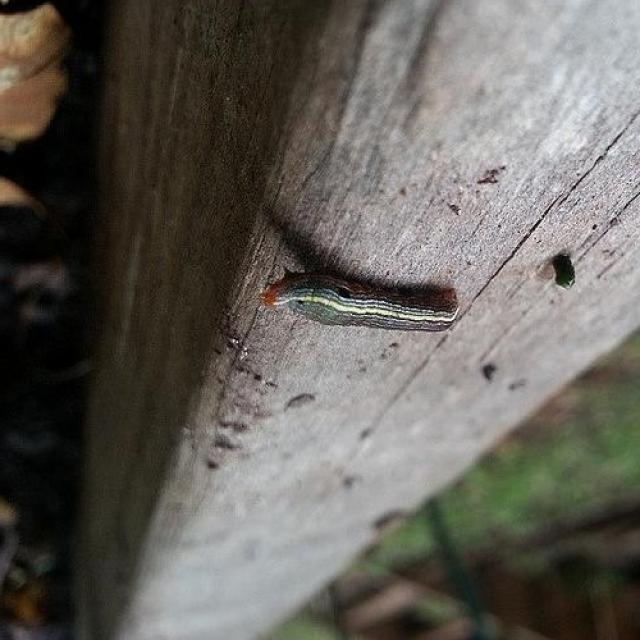army worm: (255, 269, 465, 337)
